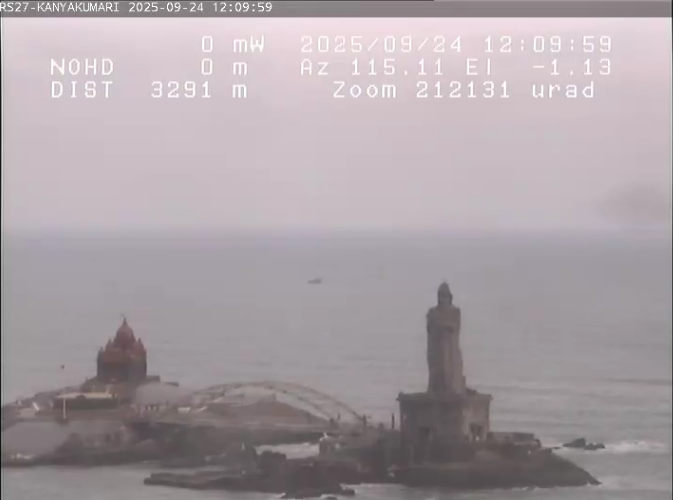FISHING_BOAT: (295, 271, 349, 291)
